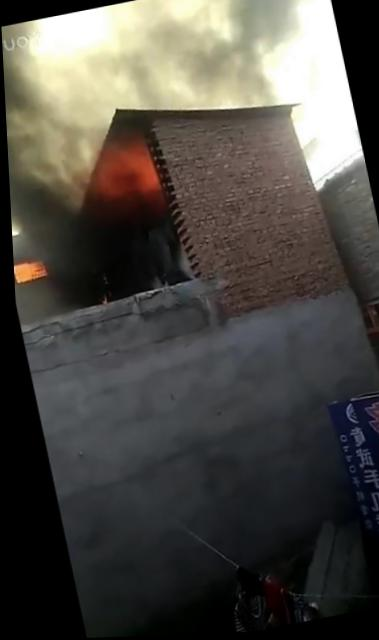fire: (92, 137, 158, 203), (11, 258, 44, 283)
